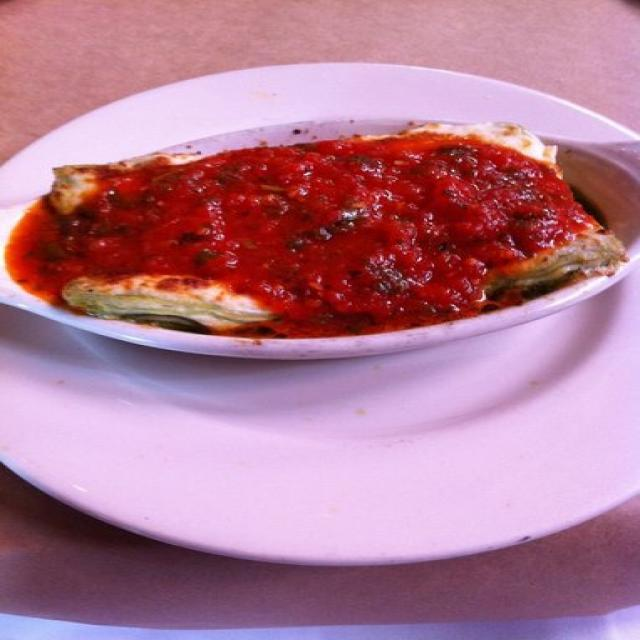Lasagna: (56, 154, 577, 352)
